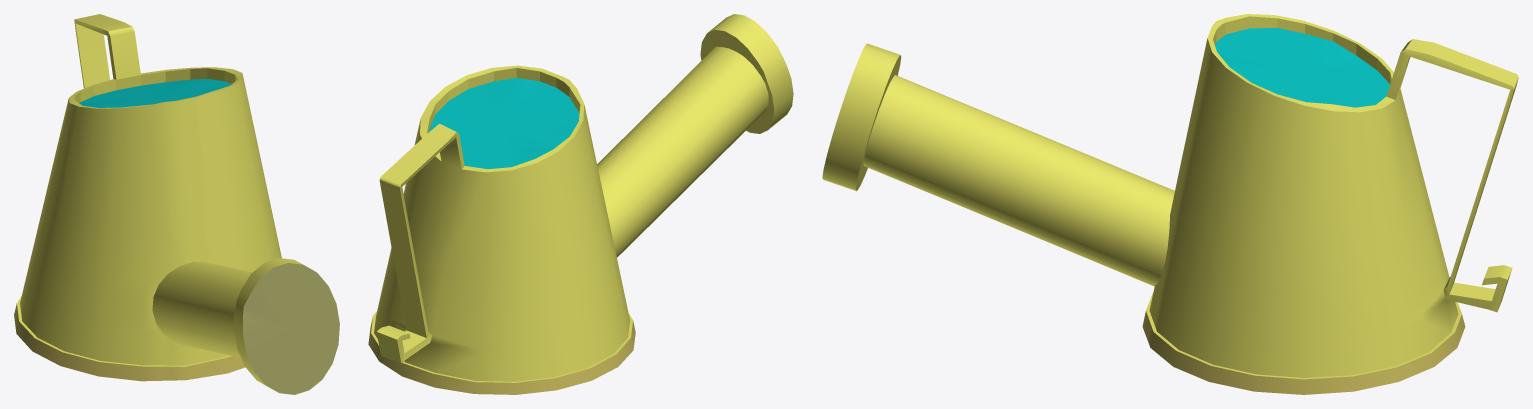
Rendered from Watering_can 1.fbx.
3 views of the same model, side by side, from view 1: azimuth 30°, elevation 25°; view 2: azimuth 150°, elevation 25°; view 3: azimuth 270°, elevation 25° (orthographic). The views are drawn at different scales.
Visible parts, largest first — view 1: pCylinder5; view 2: pCylinder5; view 3: pCylinder5.
Boxes of the visible parts, x1,y1,x2,y2 form: pCylinder5: (14,14,339,394); pCylinder5: (368,14,793,394); pCylinder5: (822,14,1518,394).
Bounding box in the file's own units: 3.21 × 3.18 × 6.93.
